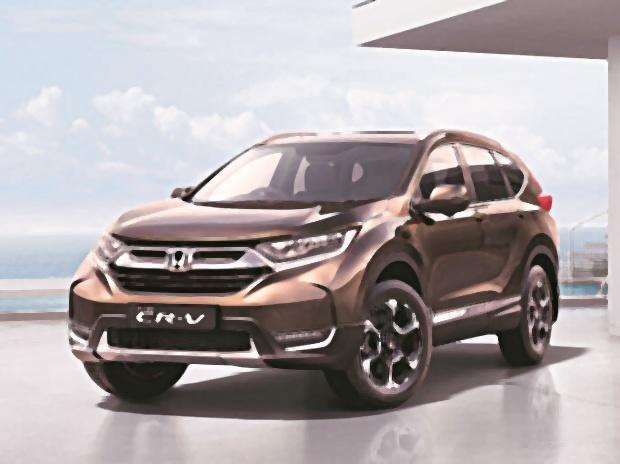Car hood: (104, 194, 390, 245)
Fender - -F-L-: (347, 190, 430, 341)
Fender - -R-L-: (528, 198, 559, 279)
Front bumper: (63, 249, 376, 376)
Headlight - -L-: (250, 221, 366, 273)
Headlight - -R-: (87, 226, 132, 273)
Passenger-s door - -F-L-: (429, 133, 487, 321)
Passenger-s door - -R-L-: (469, 133, 533, 321)
Rear light - -L-: (533, 181, 557, 215)
Side bumper - -L-: (428, 290, 525, 351)
Side mirror - -L-: (411, 179, 472, 222)
Side mirror - -R-: (163, 178, 199, 206)
